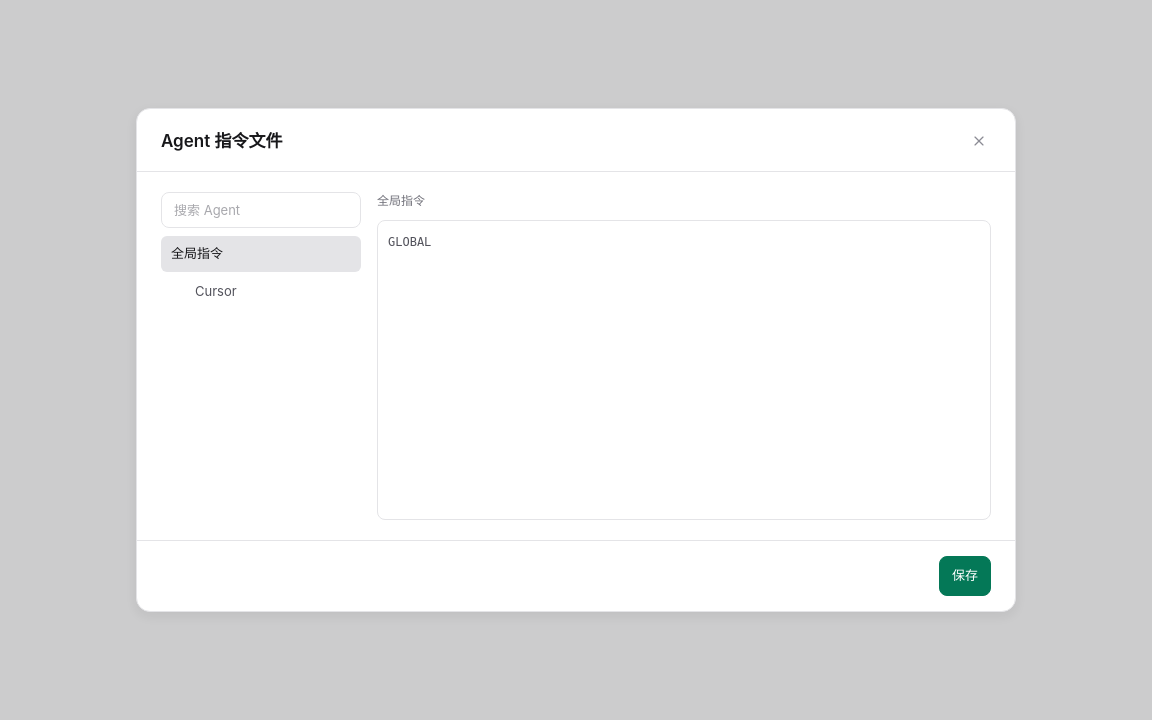
InstructionEditor › keeps a single editor, retains drafts across tools, and stays open after saving
#  编辑全局草稿。
Replace the text in the text box with "GLOBAL EDIT" at (684, 370), box [377, 220, 991, 520]
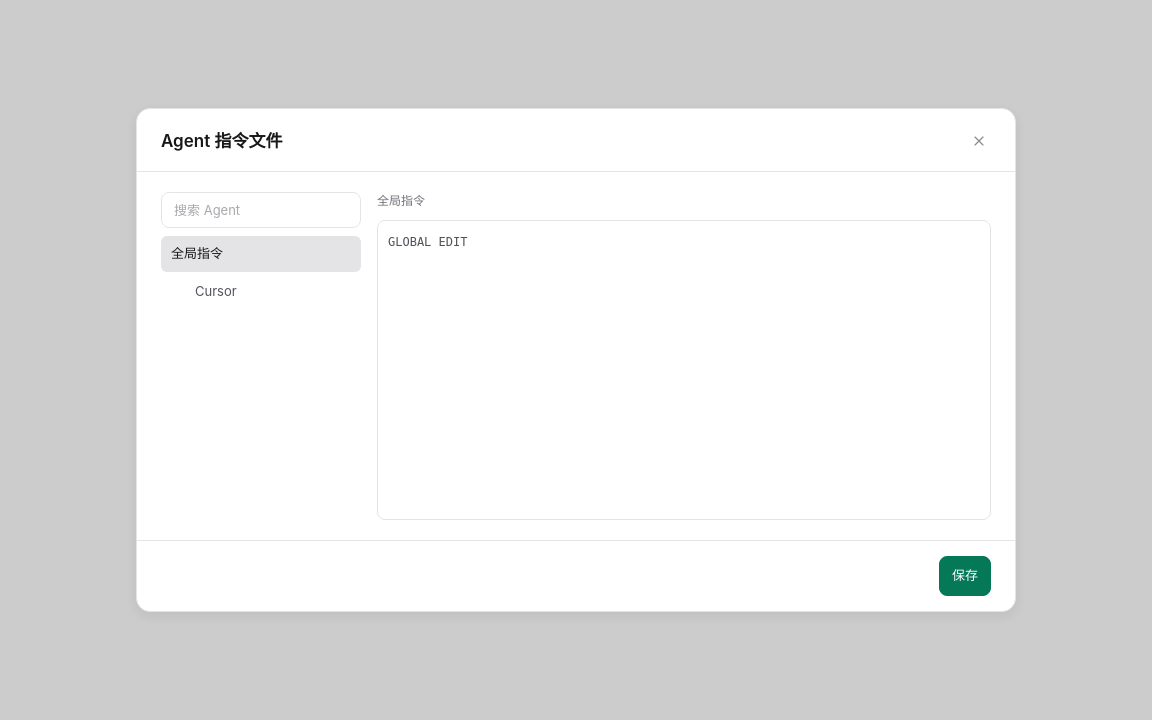
# 切换到 Cursor：只有一名编辑区，显示该 Agent 的源（空）。
Click the button "Cursor" at (261, 292), box [161, 274, 361, 310]
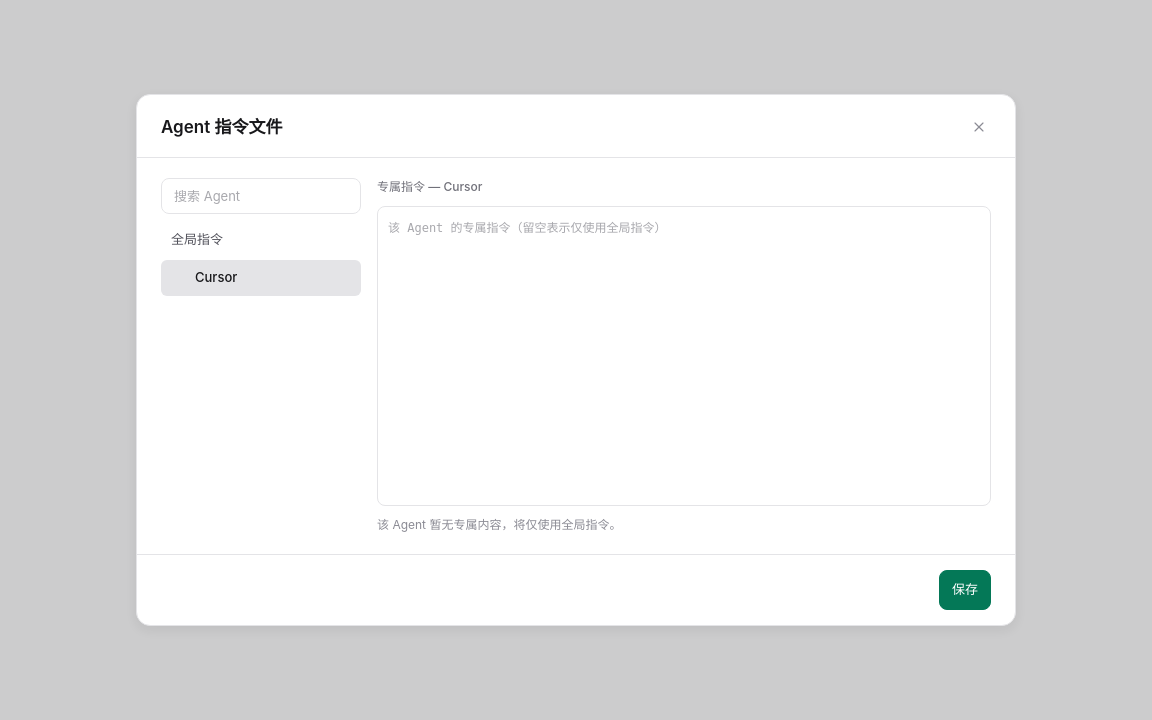
Expected: the text box with placeholder "该 Agent 的专属指令（留空表示仅使用全局指令）" is empty, [377, 206, 991, 506]
Expected: the text "该 Agent 暂无专属内容，将仅使用全局指令。" is shown, [377, 517, 621, 532]
# 切回全局：未保存草稿保留。
Click the button "全局指令" at (261, 240), box [161, 222, 361, 258]
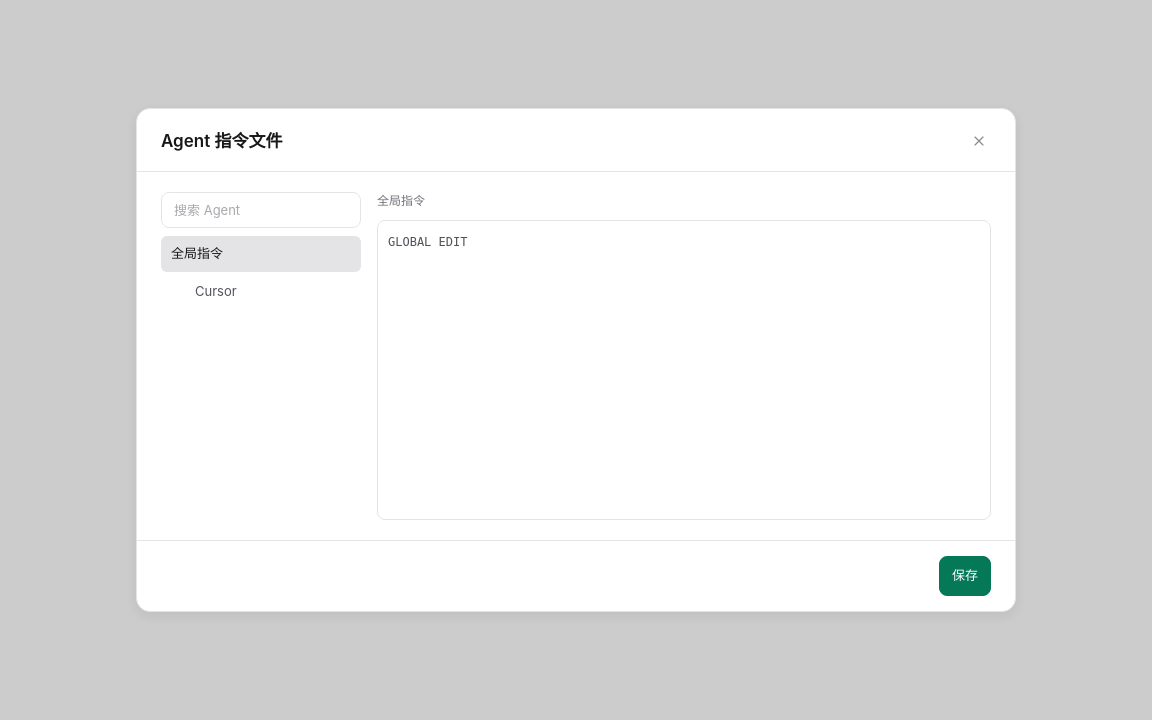
Expected: the text box holds "GLOBAL EDIT", [377, 220, 991, 520]
Click the button "保存" at (965, 576), box [939, 556, 991, 596]
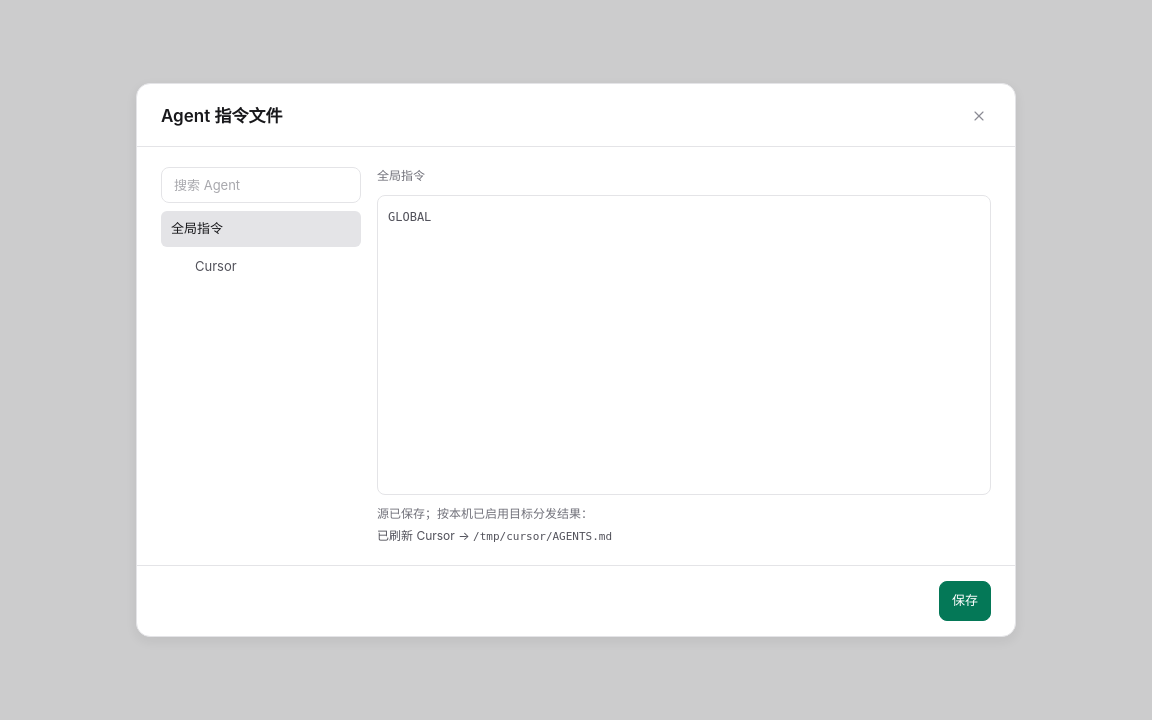
Expected: the heading "Agent 指令文件" is shown, [161, 104, 282, 130]
Expected: the text "已刷新 Cursor" is shown, [377, 528, 612, 542]
